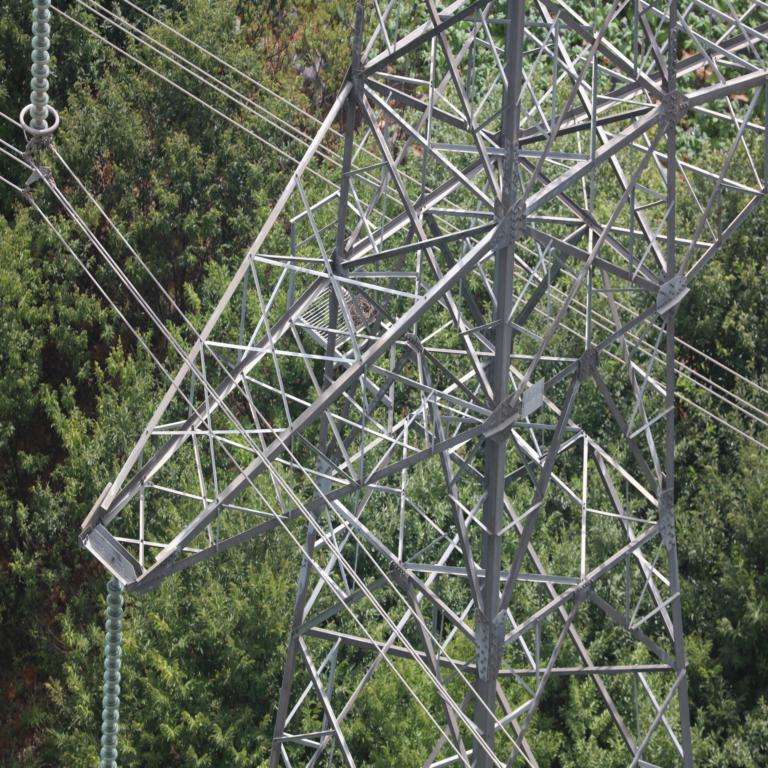nest: (346, 292, 377, 325)
